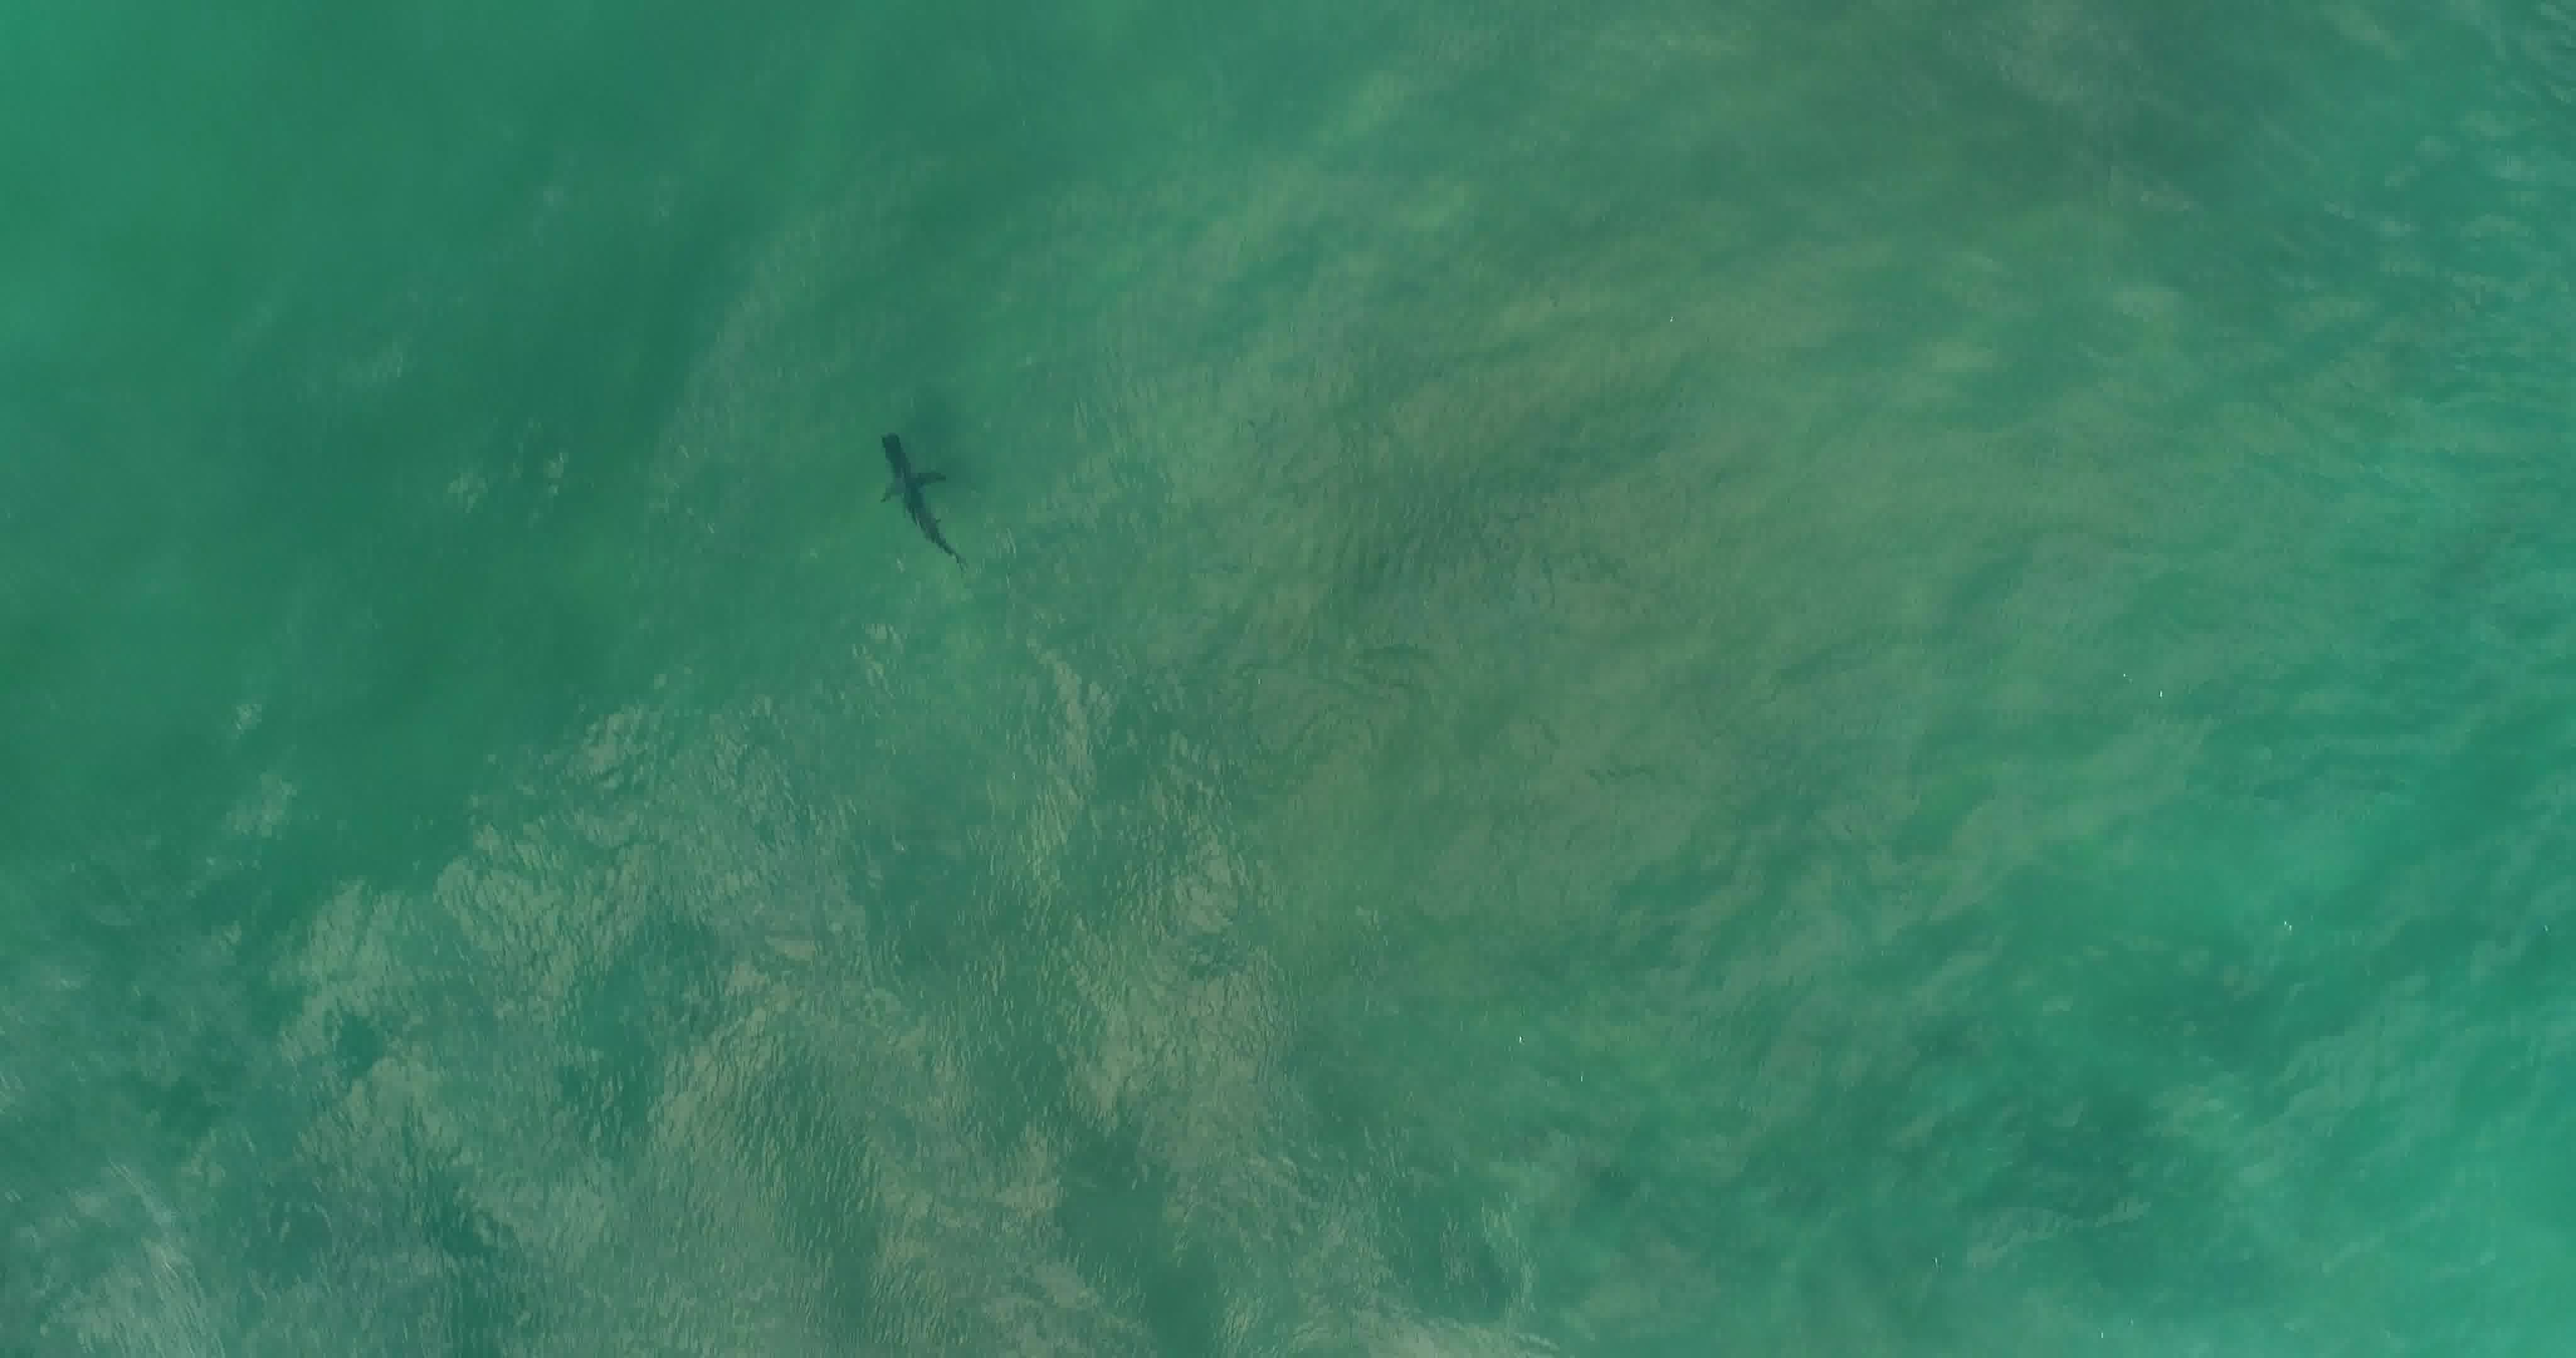shark: (874, 429, 975, 576)
